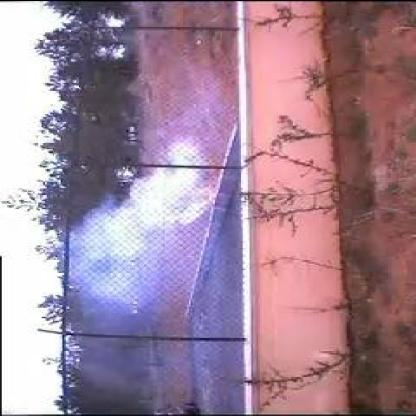-: (60, 143, 244, 331)
